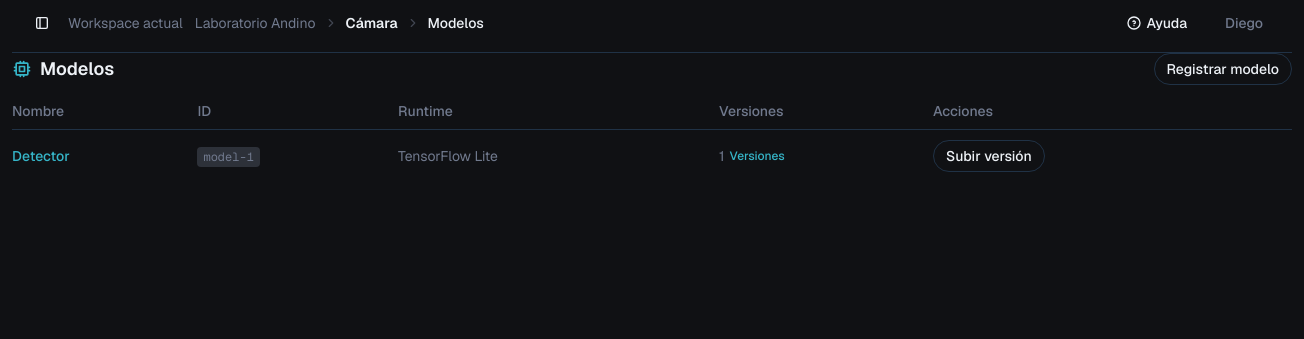
Test: Dashboard › opens a model detail from the model list route
Click the button "Detector" at coordinates (41, 156), box top-left (12, 146), bottom-right (70, 166)
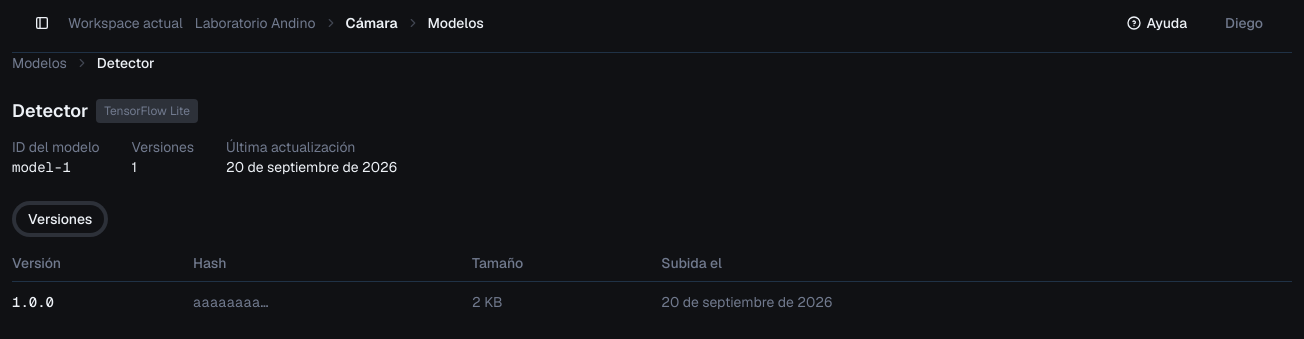
expect the header with test id "model-detail-header" is shown: met, box top-left (12, 99), bottom-right (397, 176)
expect the text "ID del modelo" is shown: met, box top-left (12, 137), bottom-right (100, 157)
expect the row with test id "model-version-row-mv-1" is shown: met, box top-left (12, 282), bottom-right (1292, 322)
